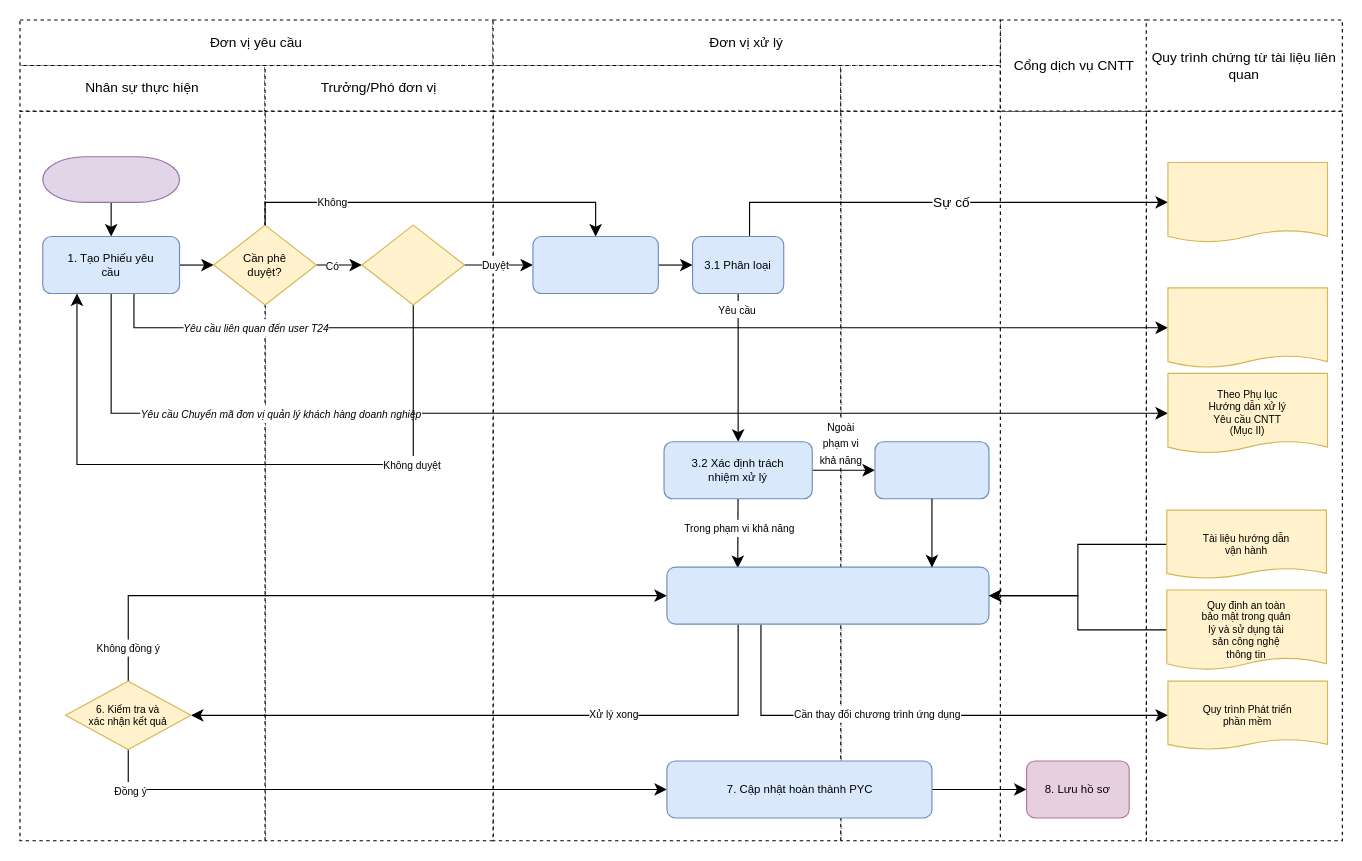
The diagram is 1362 pixels wide and 861 high, and some of its shapes have lost their labels. The box of each missing label's shape, as (x1, y1, x2, y2) in pixels:
2. Phê duyệt: (361, 224, 465, 305)
3. Tiếp nhận PYC: (532, 235, 658, 294)
4. Tiếp nhận PYC: (874, 441, 989, 499)
5. Thực hiện xử lý: (666, 566, 989, 624)
Level 2: (840, 64, 1000, 111)
Nhu cầu hỗ trợ CNTT: (42, 156, 180, 202)
Quy trình bảo đảm hoạt động liên tục hệ thống thông tin: (1167, 161, 1328, 242)
Service Desk / Level 1: (492, 64, 841, 111)
Theo Phụ lục Hướng dẫn xử lý Yêu cầu CNTT (Mục I): (1167, 287, 1328, 368)
